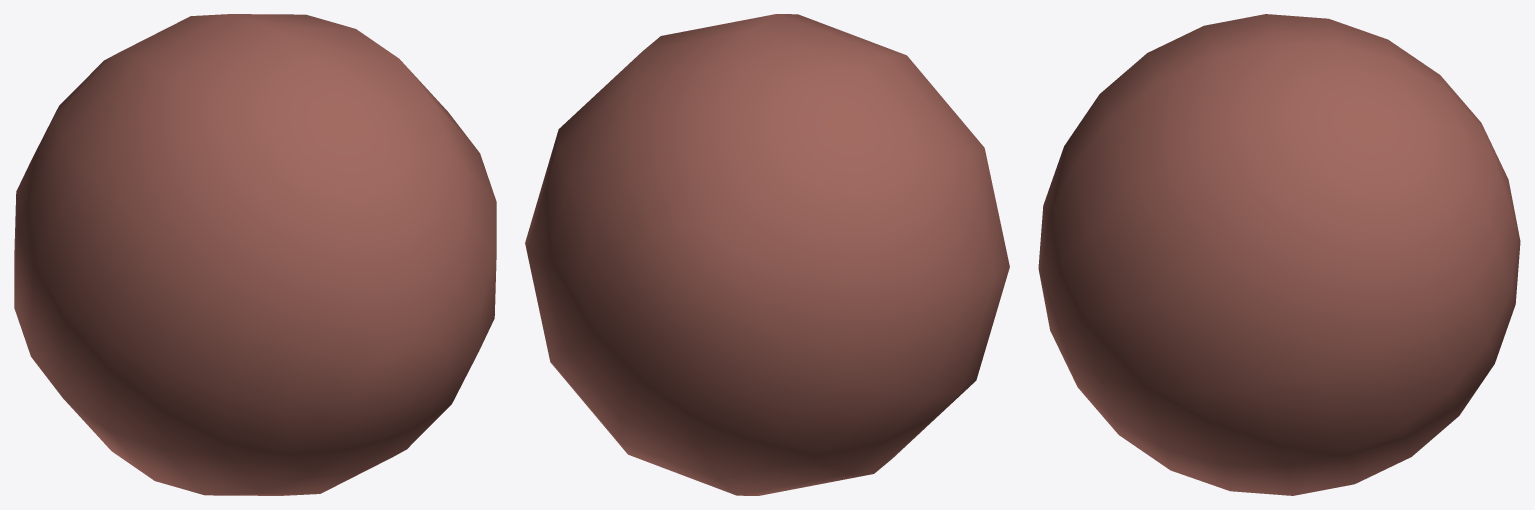
The model's file is mixamo_humanoid_joint_leftHandPinky1.fbx.
The picture shows the model from 3 angles, left to right: view 1: azimuth 30°, elevation 25°; view 2: azimuth 150°, elevation 25°; view 3: azimuth 270°, elevation 25°; orthographic projection. The views are drawn at different scales.
Visible parts, largest first — view 1: joint_LeftHandPinky1; view 2: joint_LeftHandPinky1; view 3: joint_LeftHandPinky1.
Boxes of the visible parts, bbox=[...] form: joint_LeftHandPinky1: bbox=[14, 14, 496, 495]; joint_LeftHandPinky1: bbox=[525, 14, 1009, 495]; joint_LeftHandPinky1: bbox=[1038, 14, 1520, 495].
Bounding box in the file's own units: 2.44 × 2.46 × 2.47.
